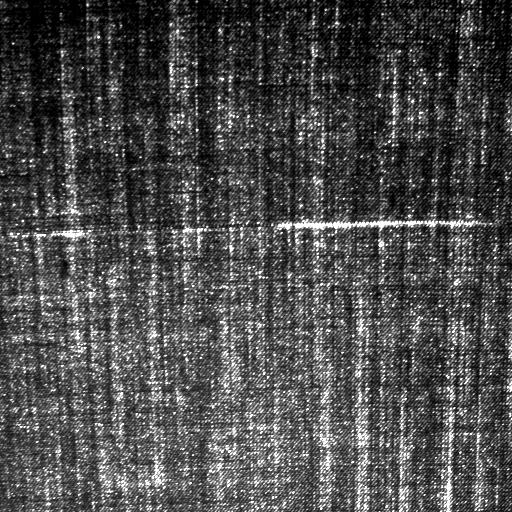fabric_broken_pick: (5, 212, 503, 244)
